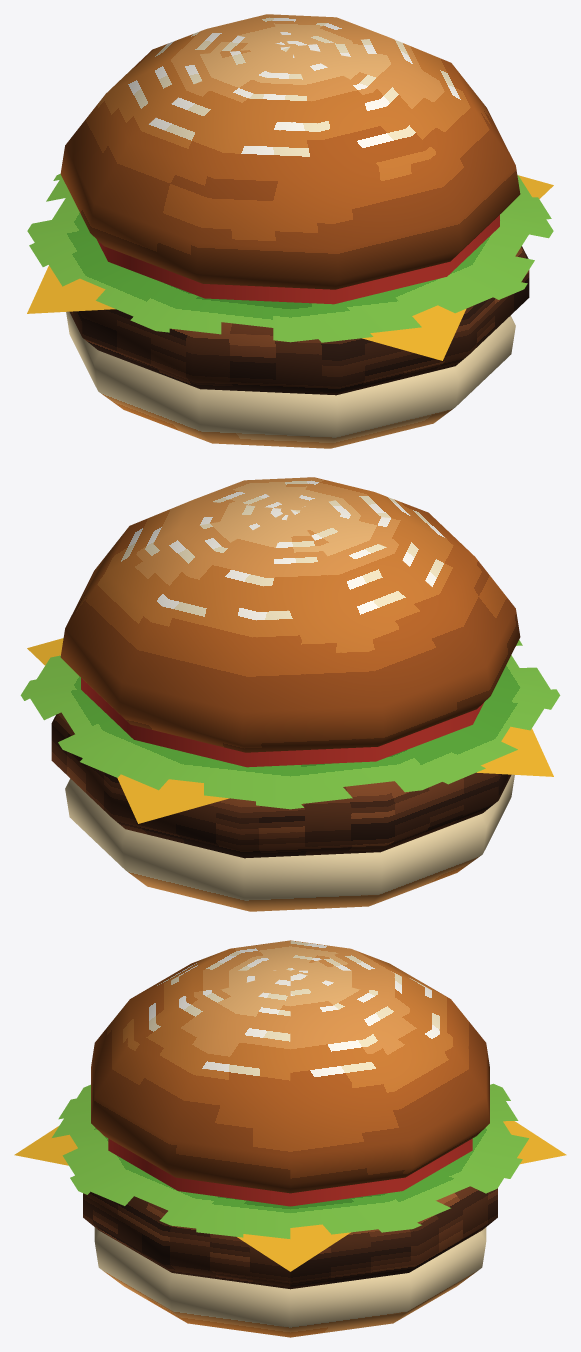
File: meals-burger.glb
3 renders of one model, top to bottom at view 1: azimuth 30°, elevation 25°; view 2: azimuth 150°, elevation 25°; view 3: azimuth 270°, elevation 25°, orthographic. The views are drawn at different scales.
Visible parts, largest first — view 1: meals.burger; view 2: meals.burger; view 3: meals.burger.
Part boxes in pixels (x1,y1,x2,y2): meals.burger: (27,14,553,448); meals.burger: (20,477,560,911); meals.burger: (14,940,566,1337).
Bounding box in the file's own units: 1.98 × 1.17 × 1.98.
6 materials, 4 textured.
